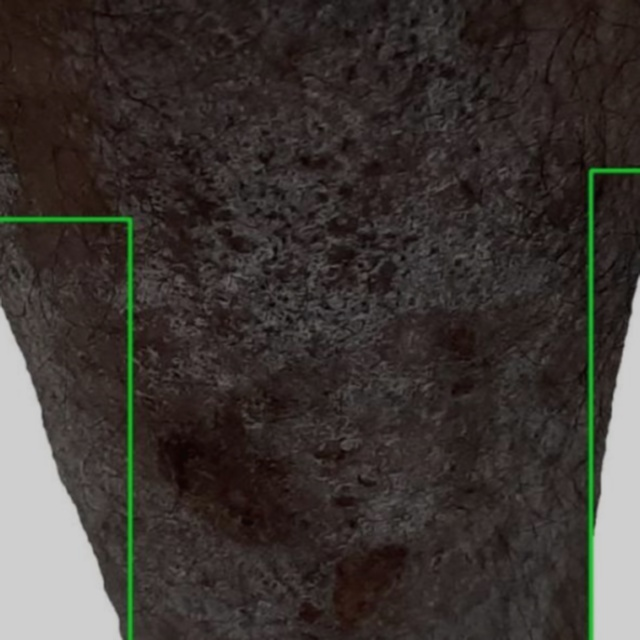Contact Dermatitis: (0, 220, 130, 639), (591, 170, 639, 639)
